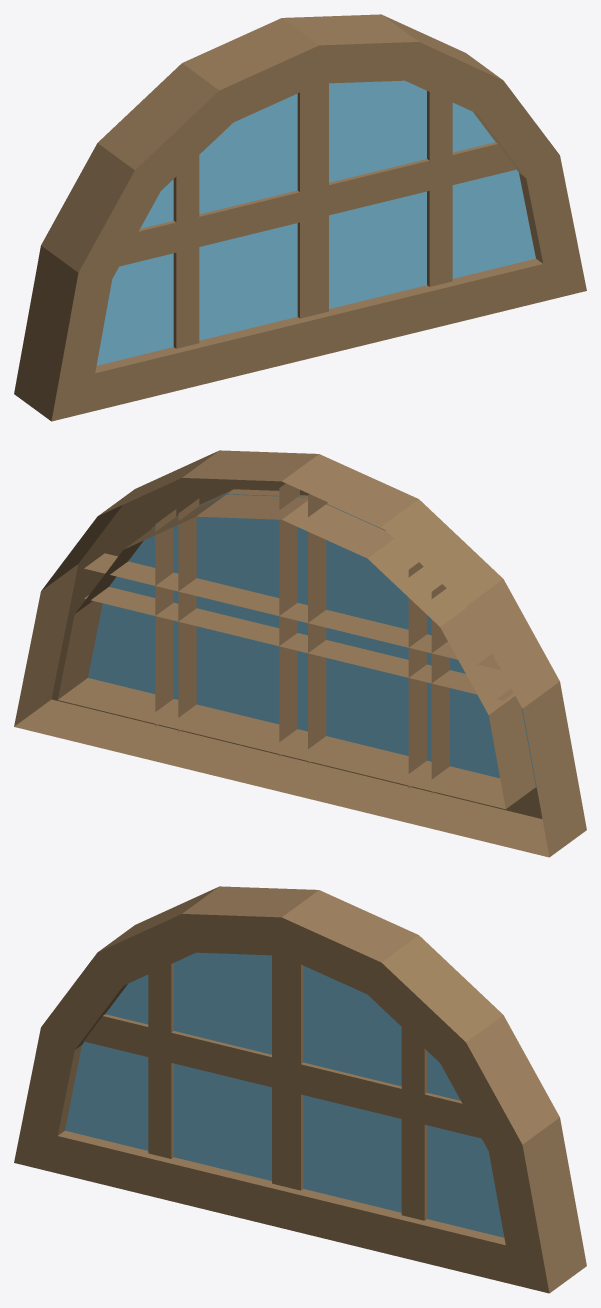
The model's file is House_Window_04.fbx.
3 views of the same model, one above another, from view 1: azimuth 30°, elevation 25°; view 2: azimuth 150°, elevation 25°; view 3: azimuth 330°, elevation 25° (orthographic).
Visible parts, largest first — view 1: House_Window_04; view 2: House_Window_04; view 3: House_Window_04.
Part boxes in pixels (x1=…): House_Window_04: x1=14, y1=14, x2=586, y2=421; House_Window_04: x1=14, y1=450, x2=586, y2=857; House_Window_04: x1=14, y1=886, x2=586, y2=1293.
Bounding box in the file's own units: 52 × 28.84 × 6.31.
